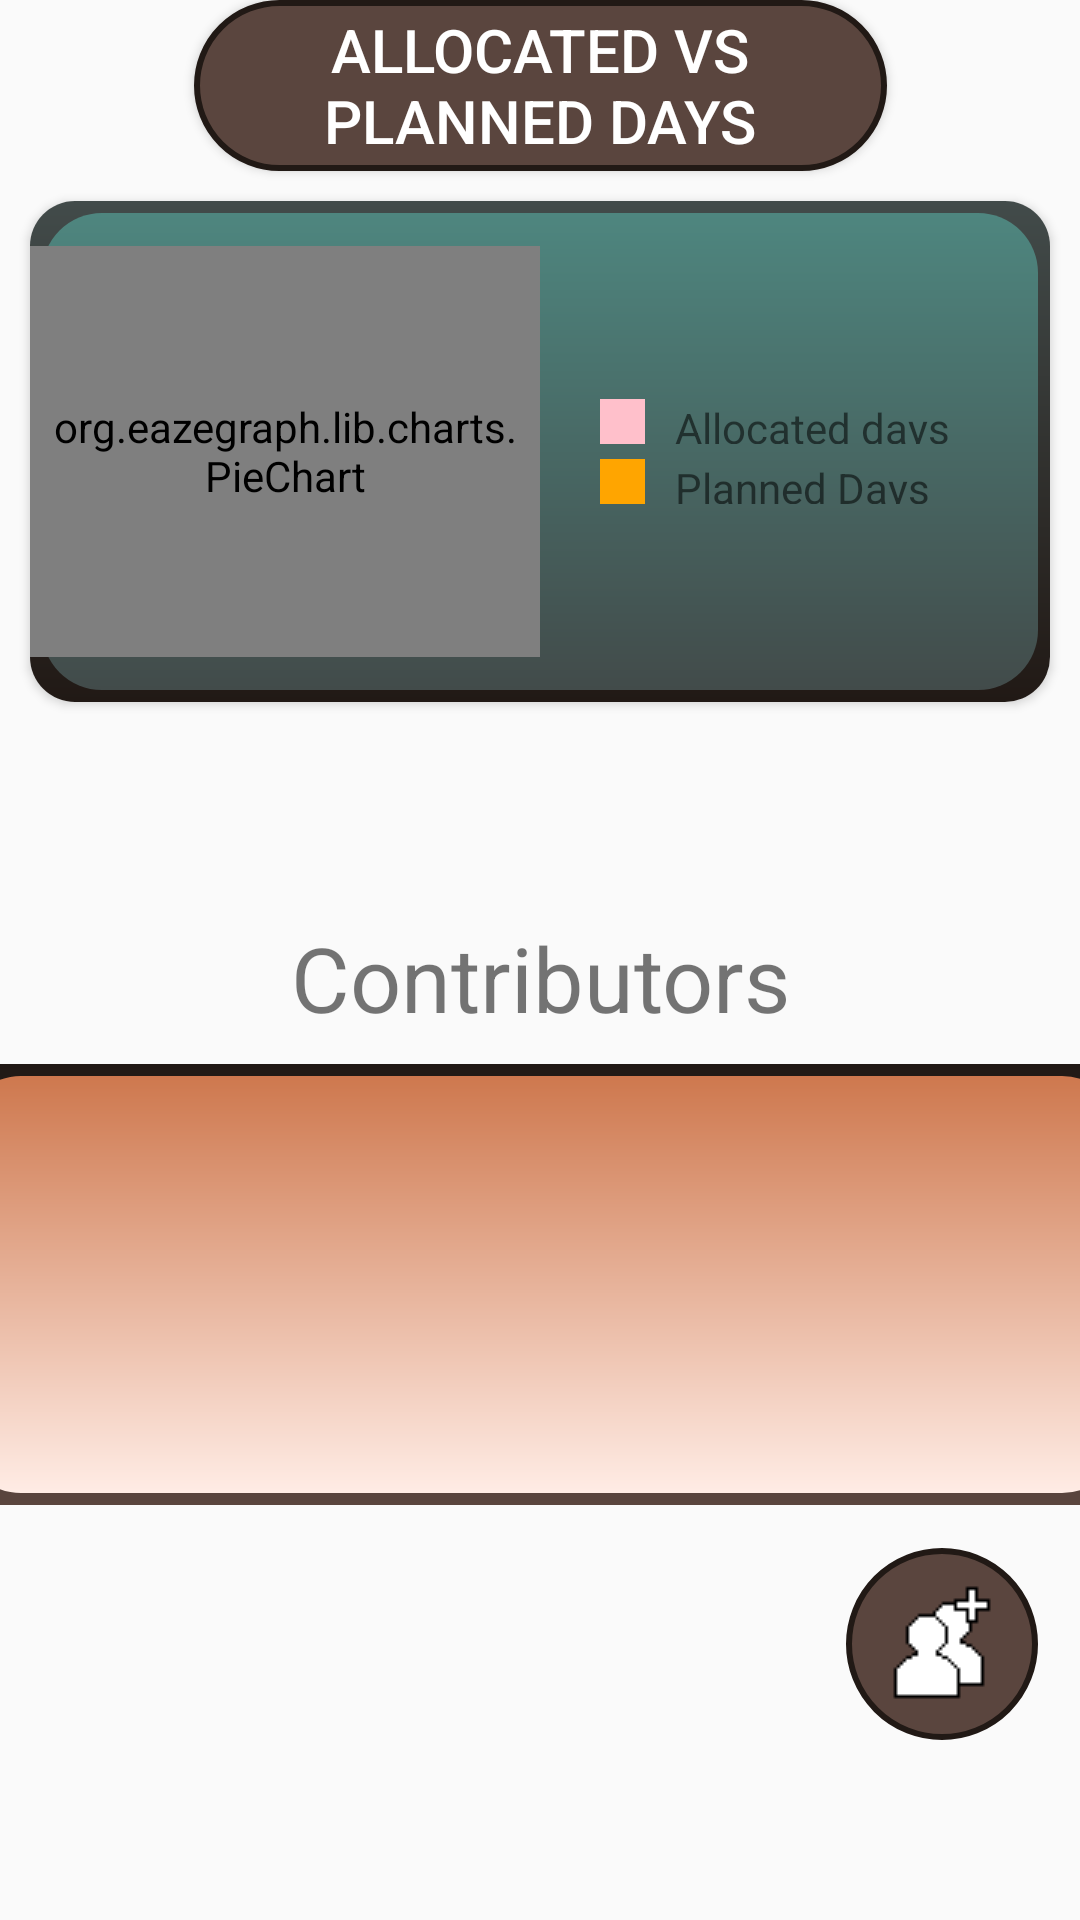

Where icons sit on this 1080w x 1920h app screen, as [x1=x1, y1=y1, x2=x2, y2=y2]:
add contributors: [x1=846, y1=1548, x2=1038, y2=1740]
